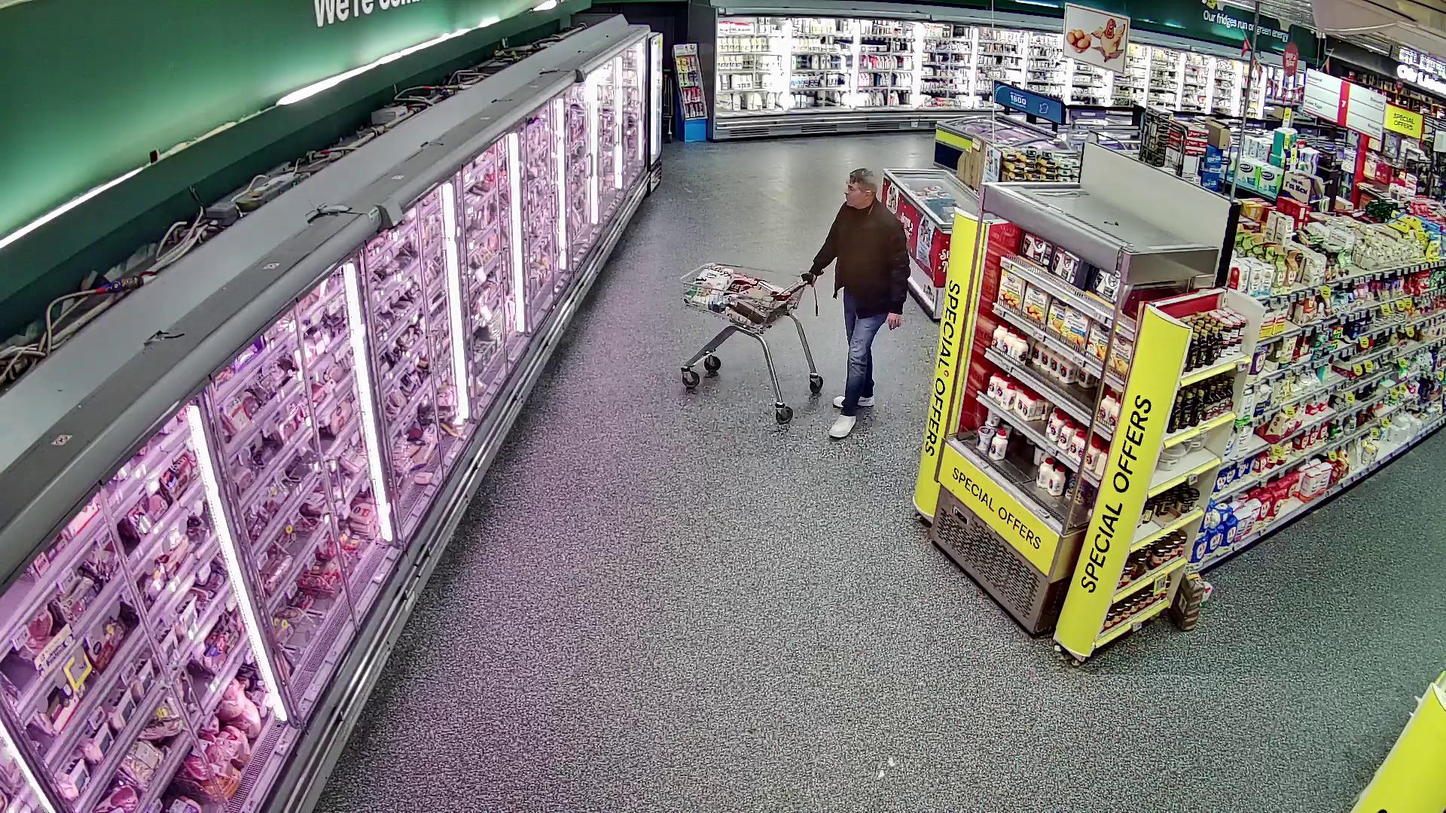filled-trolly: (680, 259, 825, 422)
person: (807, 166, 911, 440)
person-with-filled-basket-trolly: (681, 166, 912, 439)
